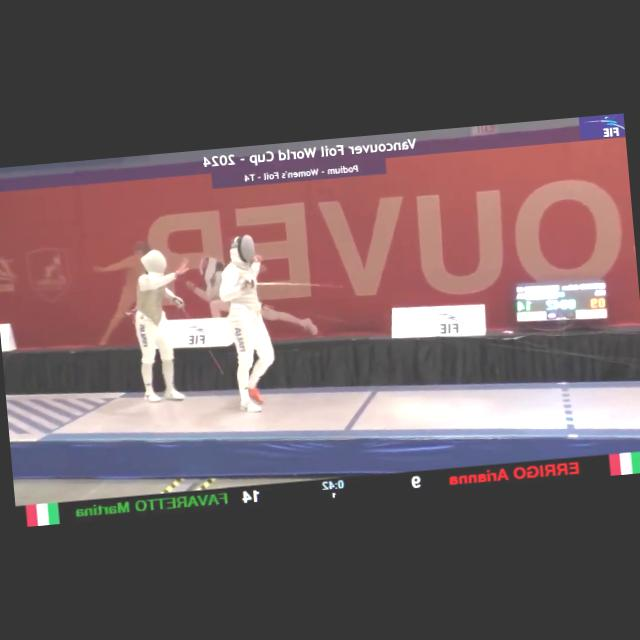blade: (174, 293, 223, 380), (246, 272, 344, 296)
